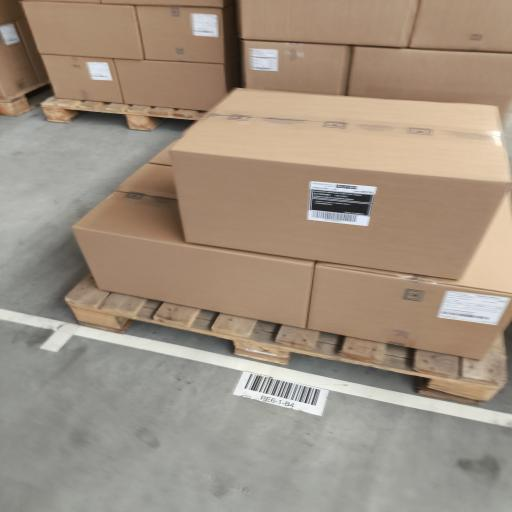pallet: (66, 276, 507, 403), (41, 97, 205, 130), (0, 83, 47, 116)
